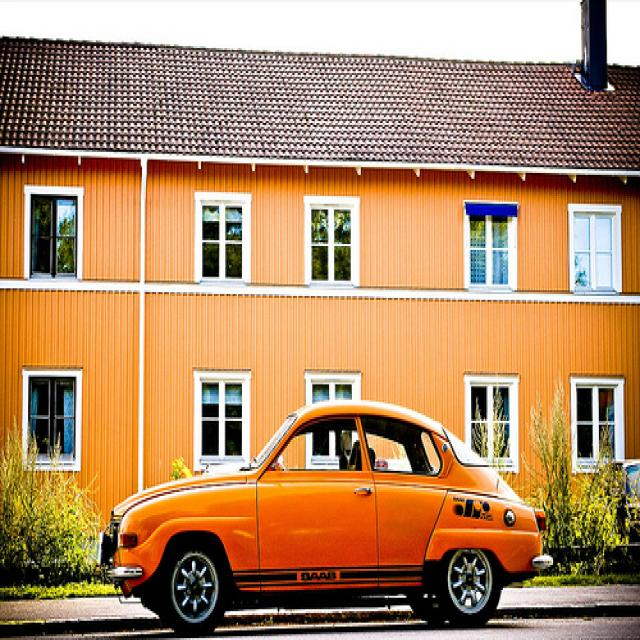Car: (95, 398, 548, 640)
